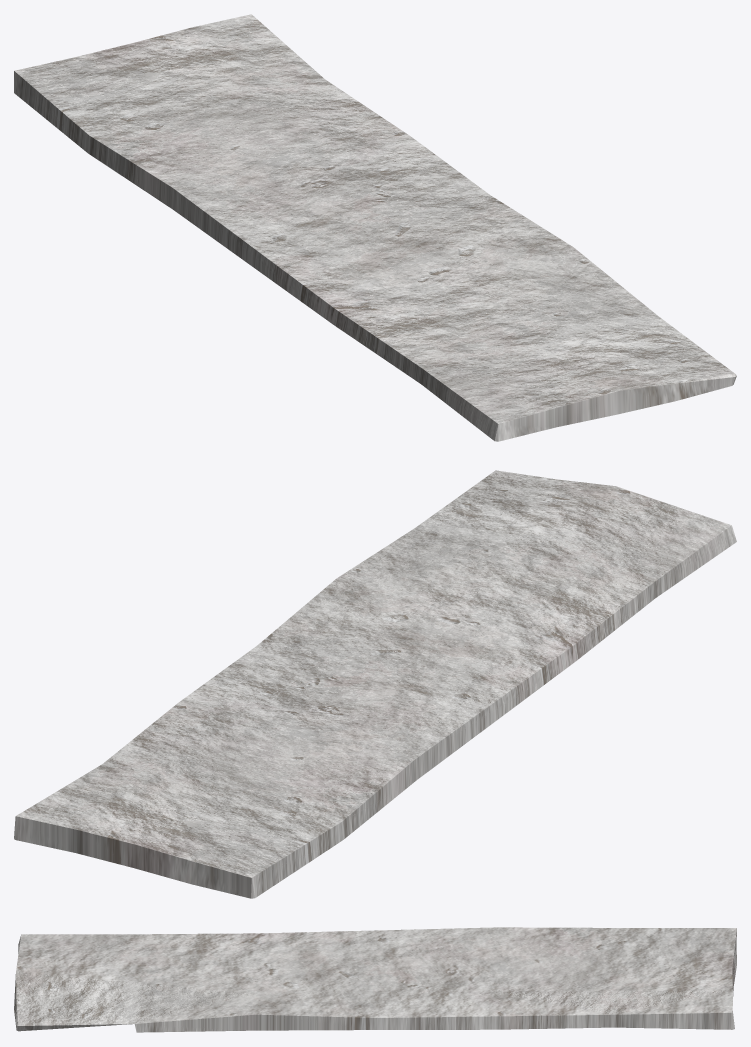
Rendered from tile2_LOD2.FBX.
3 renders of one model, top to bottom at view 1: azimuth 30°, elevation 25°; view 2: azimuth 150°, elevation 25°; view 3: azimuth 270°, elevation 25°, orthographic. The views are drawn at different scales.
Visible parts, largest first — view 1: tile2_LOD2; view 2: tile2_LOD2; view 3: tile2_LOD2.
Part boxes in pixels (left/top/right/bottom): tile2_LOD2: left=14, top=14, right=736, bottom=441; tile2_LOD2: left=14, top=470, right=736, bottom=898; tile2_LOD2: left=14, top=927, right=736, bottom=1032.
Size of the model in its own units: 52.1 by 4.66 by 173.
